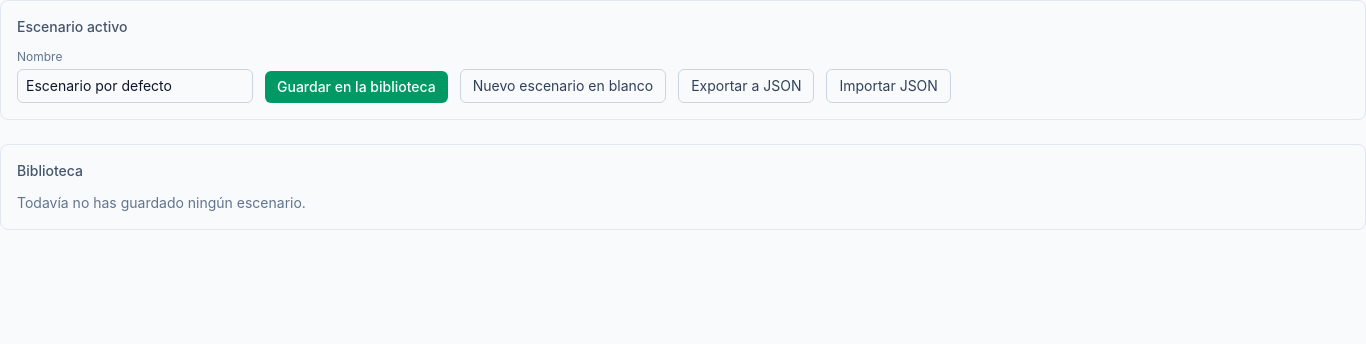
ScenariosTab › duplicar crea una segunda entrada y activa la copia
Click the button "Guardar en la biblioteca": {"x": 356, "y": 87} [265,71,448,103]
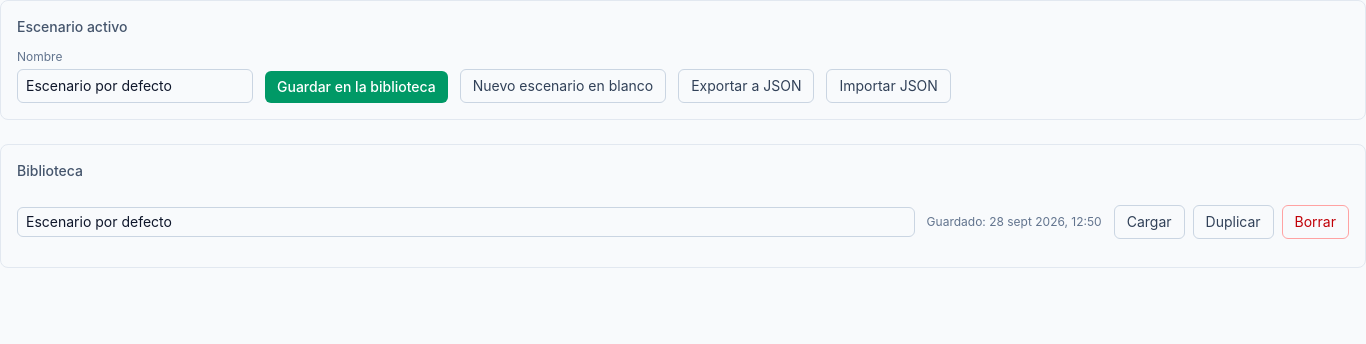
Click the button "Duplicar": {"x": 1233, "y": 222} [1192,205,1274,239]
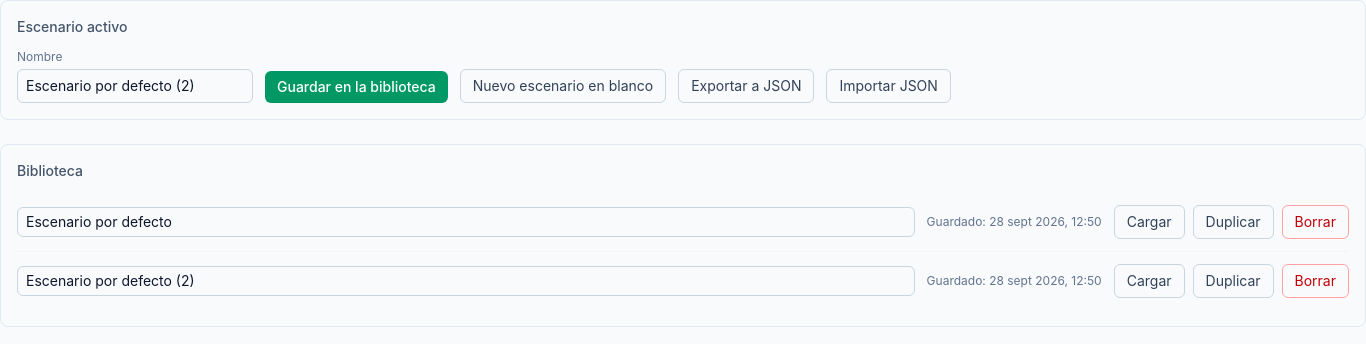
Result: the field with id "current-scenario-name" holds "Escenario por defecto (2)" at [17,69,253,103]
